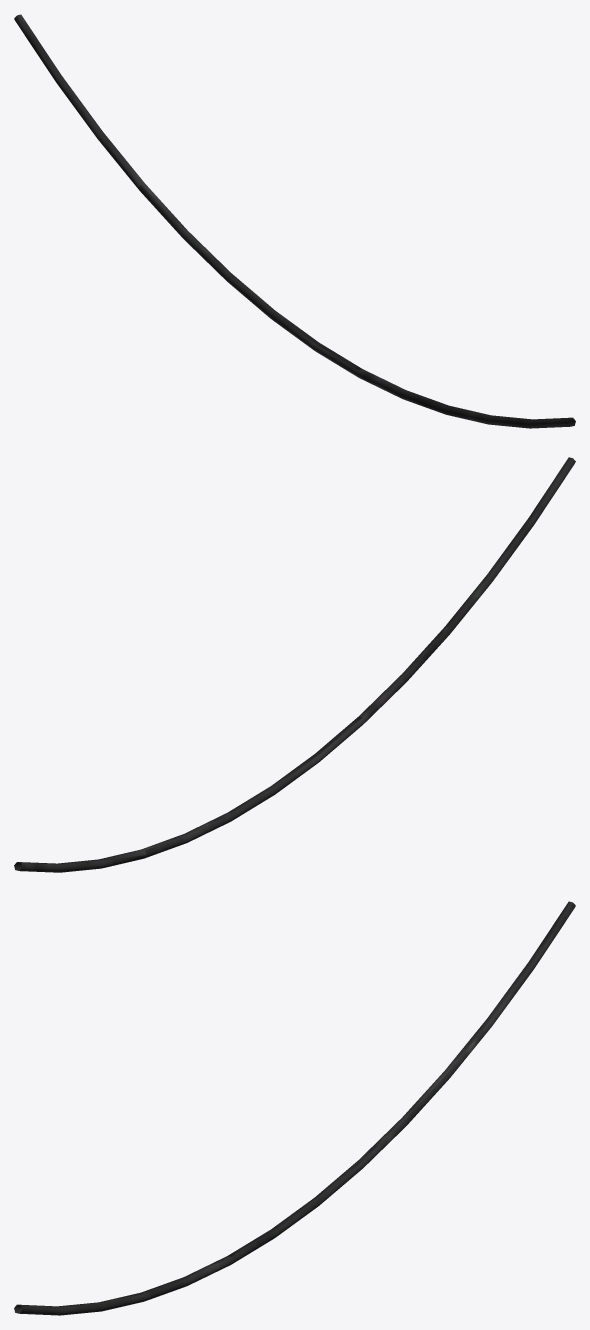
The model's file is electrical_hanging_long3.dae.
3 views of the same model, one above another, from view 1: azimuth 30°, elevation 25°; view 2: azimuth 150°, elevation 25°; view 3: azimuth 330°, elevation 25° (orthographic).
Visible parts, largest first — view 1: hanging_long3; view 2: hanging_long3; view 3: hanging_long3.
Boxes of the visible parts, x1,y1,x2,y2 form: hanging_long3: (14, 14, 575, 428); hanging_long3: (14, 457, 575, 872); hanging_long3: (14, 901, 575, 1315).
Bounding box in the file's own units: 0.0169 × 0.2285 × 1.94.
